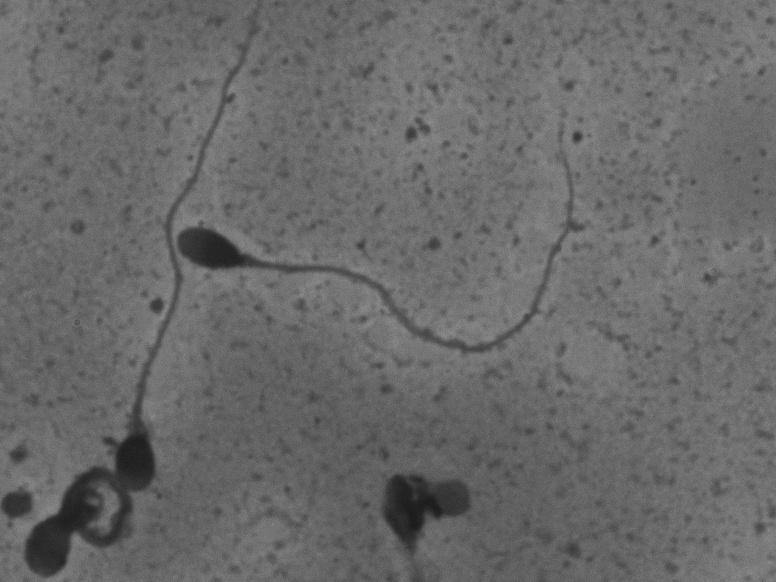Abnormal: (8, 480, 123, 581)
Normal: (174, 110, 584, 363), (106, 11, 265, 500)
